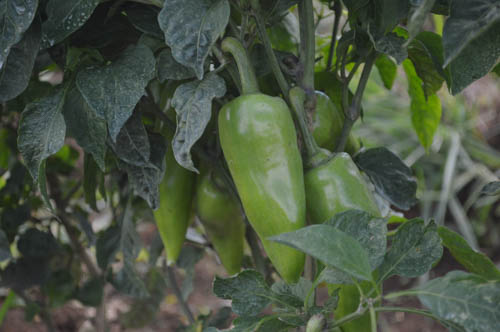ChiliPepper: (221, 93, 305, 285), (314, 156, 380, 322), (147, 87, 201, 265), (191, 168, 242, 275), (291, 88, 358, 152)
